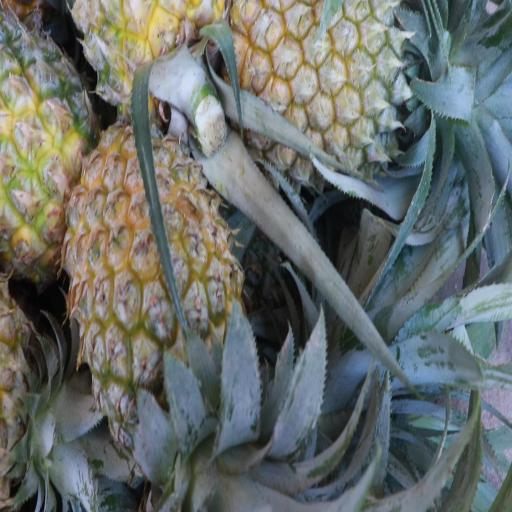------------------------------: (1, 0, 98, 292)
Pineapple - v8 v1: (56, 114, 258, 512), (219, 0, 412, 196), (66, 0, 232, 153)
